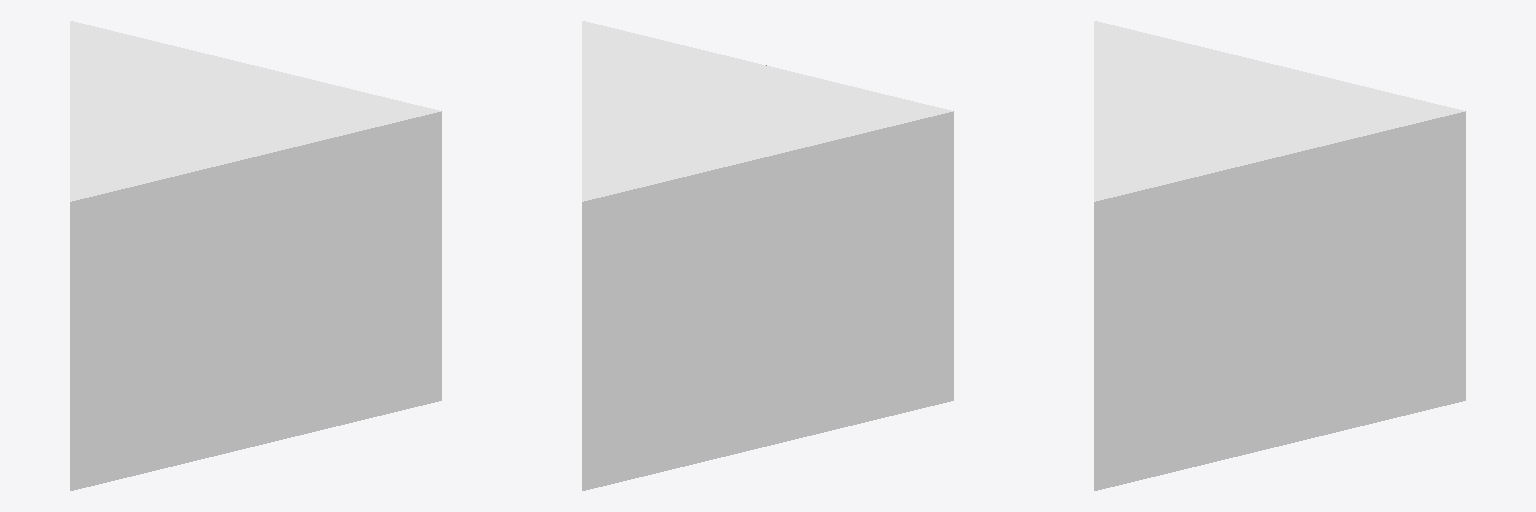
URDF robot description (triangle.SLDPRT):
<?xml version="1.0" encoding="utf-8"?>
<!-- This URDF was automatically created by SolidWorks to URDF Exporter! Originally created by [author] ([email redacted]) 
     Commit Version: 1.5.1-0-g916b5db  Build Version: 1.5.7152.31018
     For more information, please see http://wiki.ros.org/sw_urdf_exporter -->
<robot
  name="triangle.SLDPRT">
  <link
    name="triangle">
    <inertial>
      <origin
        xyz="0.0195 0.011258 0.0145"
        rpy="0 0 0" />
      <mass
        value="0.16235" />
      <inertia
        ixx="2.1667E-05"
        ixy="4.1909E-22"
        ixz="-1.0132E-21"
        iyy="2.1667E-05"
        iyz="-1.60157981596563E-21"
        izz="2.0578E-05" />
    </inertial>
    <visual>
      <origin
        xyz="0 0 0"
        rpy="1.5707963267949 0 0" />
      <geometry>
        <mesh
          filename="package://triangle/meshes/triangle.STL" />
      </geometry>
      <material
        name="">
        <color
          rgba="1 1 1 1" />
        <texture
          filename="package://triangle/textures/" />
      </material>
    </visual>
    <collision>
      <origin
        xyz="0 0 0"
        rpy="1.5707963267949 0 0" />
      <geometry>
        <mesh
          filename="package://triangle/meshes/triangle.STL" />
      </geometry>
    </collision>
  </link>
</robot>

--- What the picture shows (computed from the rendered views, not written in the file) ---
The picture shows the robot from 3 angles, left to right: view 1: azimuth 30°, elevation 25°; view 2: azimuth 150°, elevation 25°; view 3: azimuth 270°, elevation 25°; orthographic projection.
Robot: triangle.SLDPRT — 1 links, 0 joints (none); root link triangle; default pose: all joints at 0.
Links seen in each view (by area): view 1: triangle; view 2: triangle; view 3: triangle.
Link boxes in pixels (x1=…): triangle: x1=70, y1=21, x2=441, y2=490; triangle: x1=582, y1=21, x2=953, y2=490; triangle: x1=1094, y1=21, x2=1465, y2=490.
Size in the robot's own frame: 0.039 by 0.0338 by 0.029 metres.
Meshes: 1 distinct files referenced, 1 mesh visuals loaded (1 binary STL).